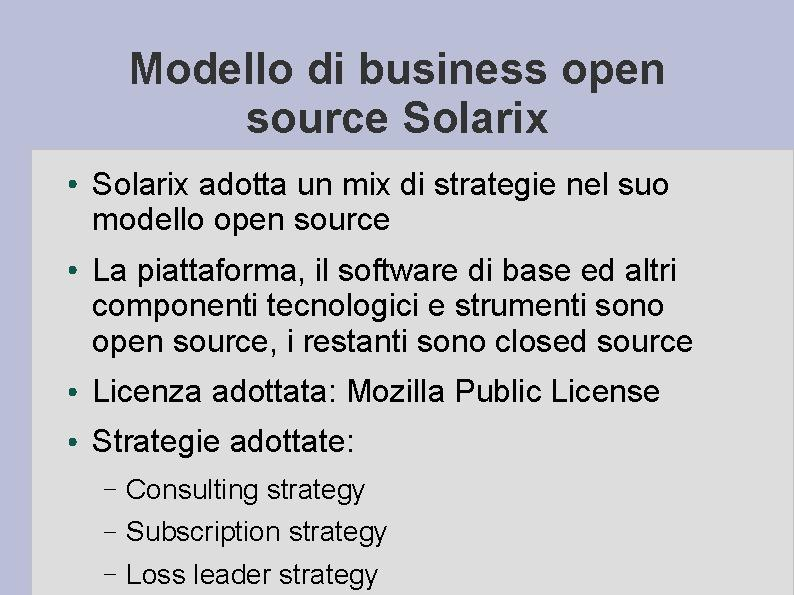paragraph: (50, 161, 749, 594)
title: (120, 25, 674, 147)
